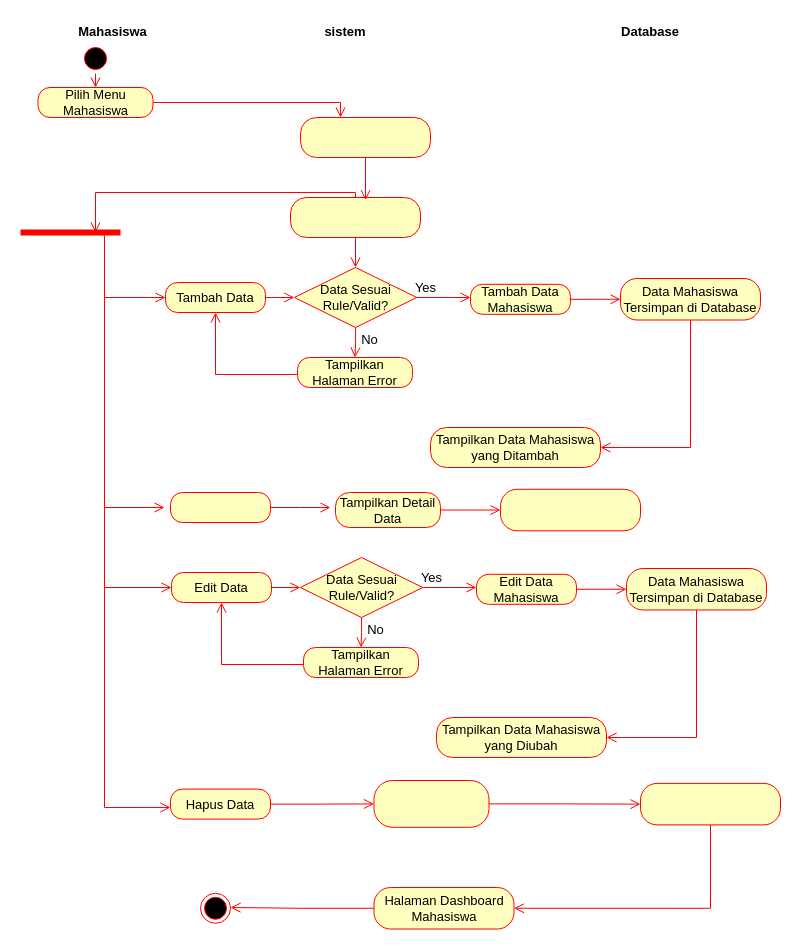
This 798x946 diagram has some shape labels left out. The shapes that lost their labels are listed below. From the top down, each one's centre as x and y in pixels, then its label:
the point at 365,137: Tampilkan Halaman Mahasiswa
the point at 355,217: Menampilkan Halaman Mahasiswa
the point at 220,507: Detail Data
the point at 570,509: Detail Data Mahasiswa
the point at 431,803: Hapus Data Mahasiswa Sesuai Id
the point at 710,803: Data Mahasiswa Terhapus
